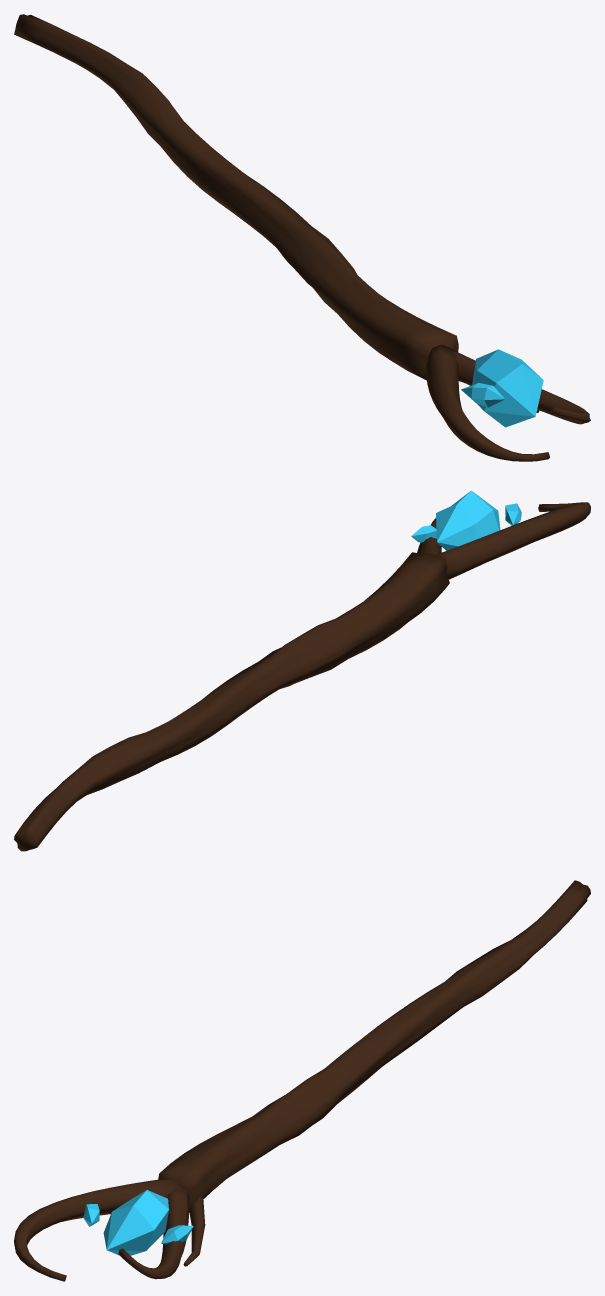
File: SM_WizardStaff.obj
3 renders of one model, top to bottom at view 1: azimuth 30°, elevation 25°; view 2: azimuth 150°, elevation 25°; view 3: azimuth 330°, elevation 25°, orthographic. The views are drawn at different scales.
Parts seen in each view (by area): view 1: SM_WizardStaff; view 2: SM_WizardStaff; view 3: SM_WizardStaff.
Boxes of the visible parts, box(x1,y1,x2,y2) form: SM_WizardStaff: box(14, 14, 590, 461); SM_WizardStaff: box(14, 490, 590, 851); SM_WizardStaff: box(14, 880, 590, 1281).
Size of the model in its own units: 32.22 by 17.02 by 212.
